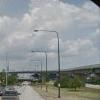Tree: (64, 67, 86, 93)
